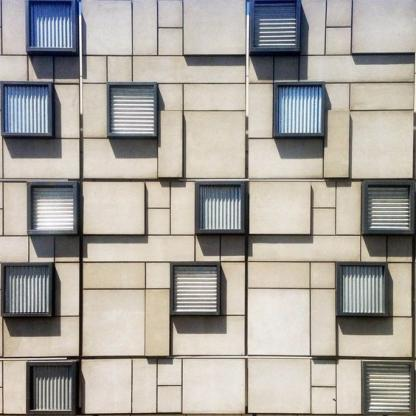Blind: (4, 84, 48, 133), (4, 266, 49, 313), (110, 85, 154, 133), (277, 85, 321, 133), (172, 265, 217, 311), (340, 266, 384, 313), (367, 365, 410, 413), (29, 1, 72, 48), (30, 365, 73, 412), (254, 1, 296, 48), (31, 185, 73, 230), (369, 184, 411, 229), (199, 185, 241, 230)
Facade: (0, 0, 416, 416)
Floor: (0, 72, 416, 157), (0, 253, 416, 334), (0, 165, 416, 246), (0, 341, 416, 416), (0, 0, 416, 65)
Floor Slab: (0, 157, 416, 165), (0, 334, 416, 342), (0, 65, 416, 72), (0, 246, 416, 253)
Window: (4, 84, 48, 133), (4, 266, 49, 313), (110, 85, 154, 133), (277, 85, 321, 133), (172, 265, 217, 311), (340, 266, 384, 313), (367, 365, 410, 413), (29, 1, 72, 48), (30, 365, 73, 412), (254, 1, 296, 48), (31, 185, 73, 230), (199, 185, 241, 230), (369, 184, 411, 229)
Window Outline: (361, 360, 416, 416), (336, 261, 388, 317), (363, 181, 416, 234), (0, 82, 52, 136), (195, 181, 247, 234), (107, 81, 157, 136), (27, 181, 78, 234), (0, 263, 51, 316), (170, 261, 221, 314), (275, 82, 325, 136), (250, 0, 301, 52), (27, 362, 76, 416), (25, 0, 75, 52)
